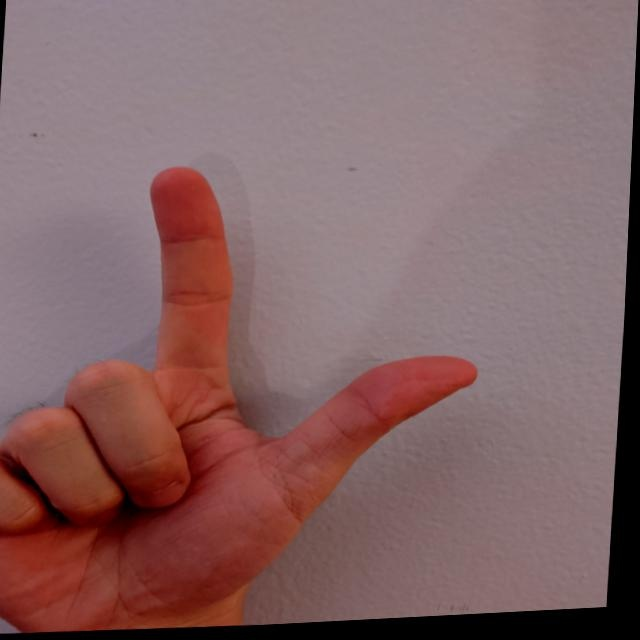L: (0, 144, 504, 639)
